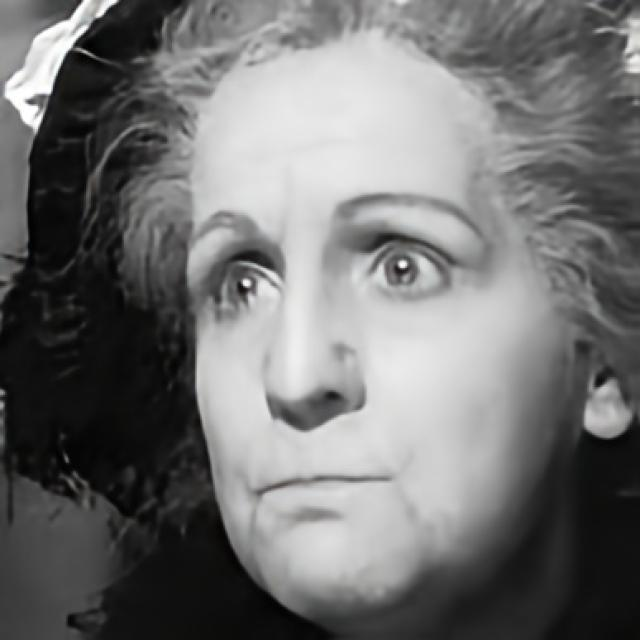surprise: (183, 24, 580, 626)
